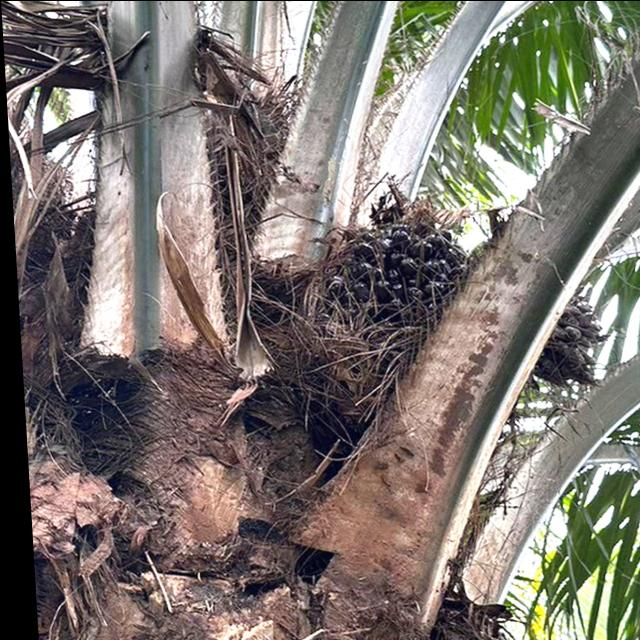almost: (297, 202, 473, 414)
